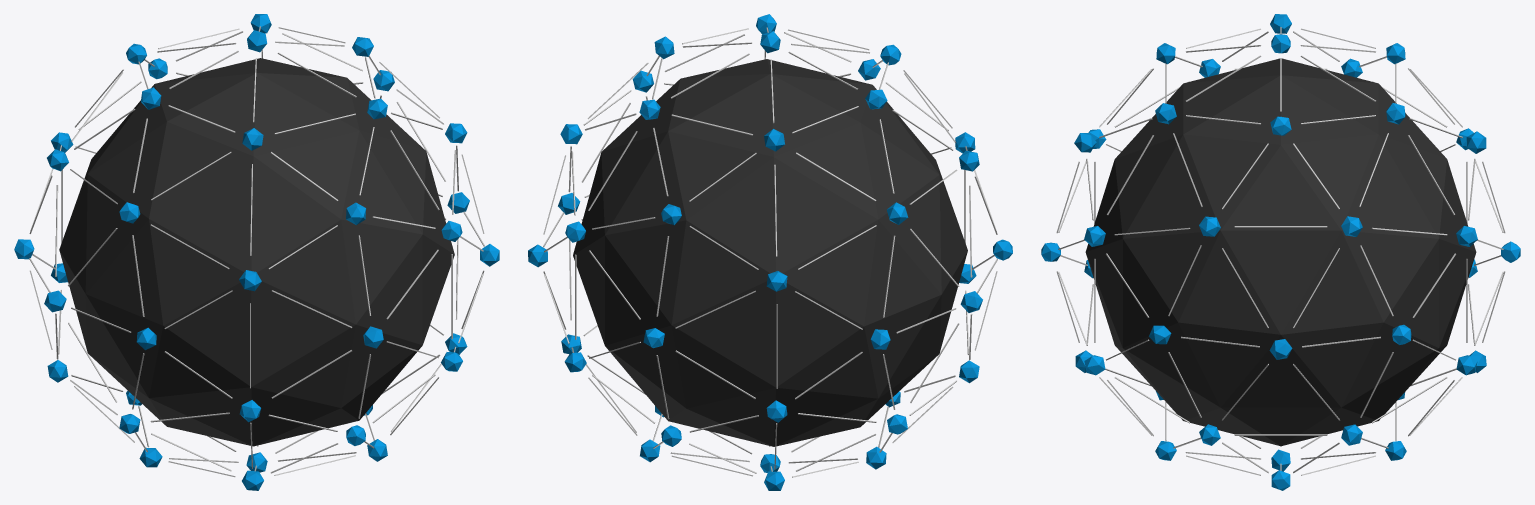
File: sample.dae
3 views of the same model, side by side, from view 1: azimuth 30°, elevation 25°; view 2: azimuth 150°, elevation 25°; view 3: azimuth 270°, elevation 25° (orthographic).
Visible parts, largest first — view 1: 球体.1; view 2: 球体.1; view 3: 球体.1.
Boxes of the visible parts, x1,y1,x2,y2 form: 球体.1: [59, 58, 454, 446]; 球体.1: [573, 59, 967, 446]; 球体.1: [1085, 58, 1476, 446].
Bounding box in the file's own units: 64.72 × 64.72 × 64.72.
